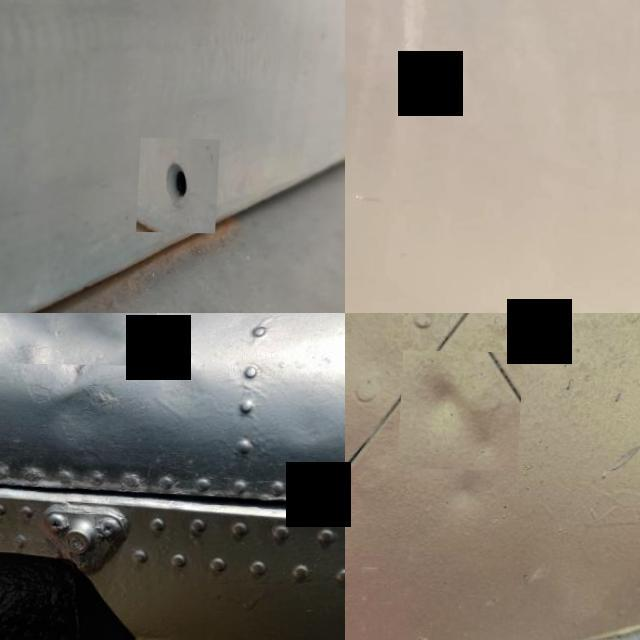Dent: (400, 349, 526, 469), (0, 313, 162, 364), (45, 376, 121, 454)
Missing_Fastener: (140, 136, 223, 232)
